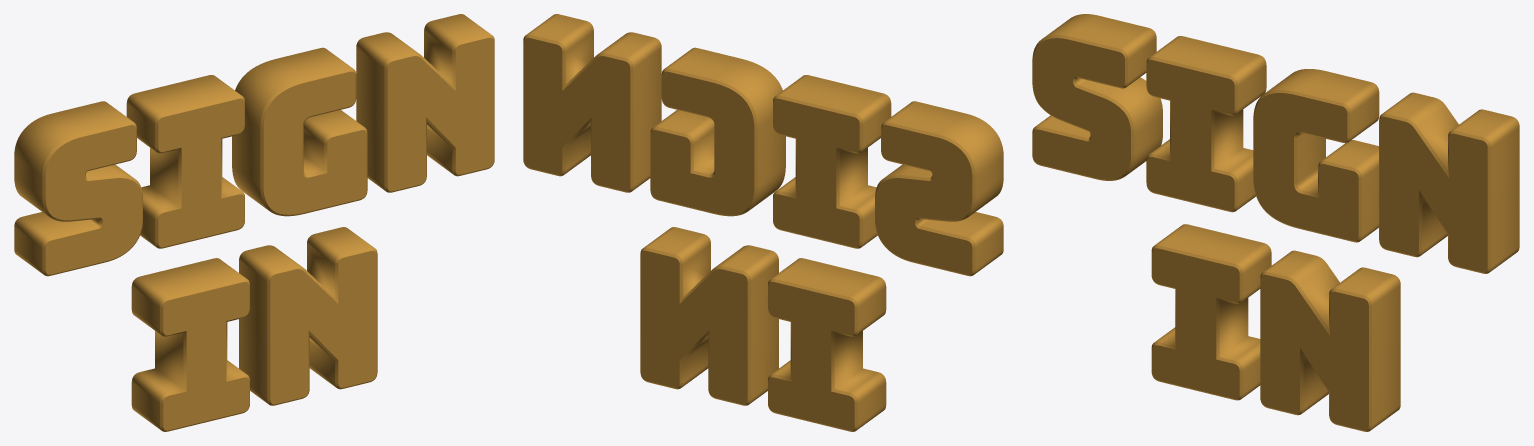
File: sign-in-bungee.glb
The picture shows the model from 3 angles, left to right: view 1: azimuth 30°, elevation 25°; view 2: azimuth 150°, elevation 25°; view 3: azimuth 330°, elevation 25°; orthographic projection.
Visible parts, largest first — view 1: Text; view 2: Text; view 3: Text.
Part boxes in pixels (bbox=[...]): Text: bbox=[14, 14, 494, 431]; Text: bbox=[523, 14, 1003, 431]; Text: bbox=[1032, 14, 1519, 431].
Size of the model in its own units: 2.05 by 1.38 by 0.24.
